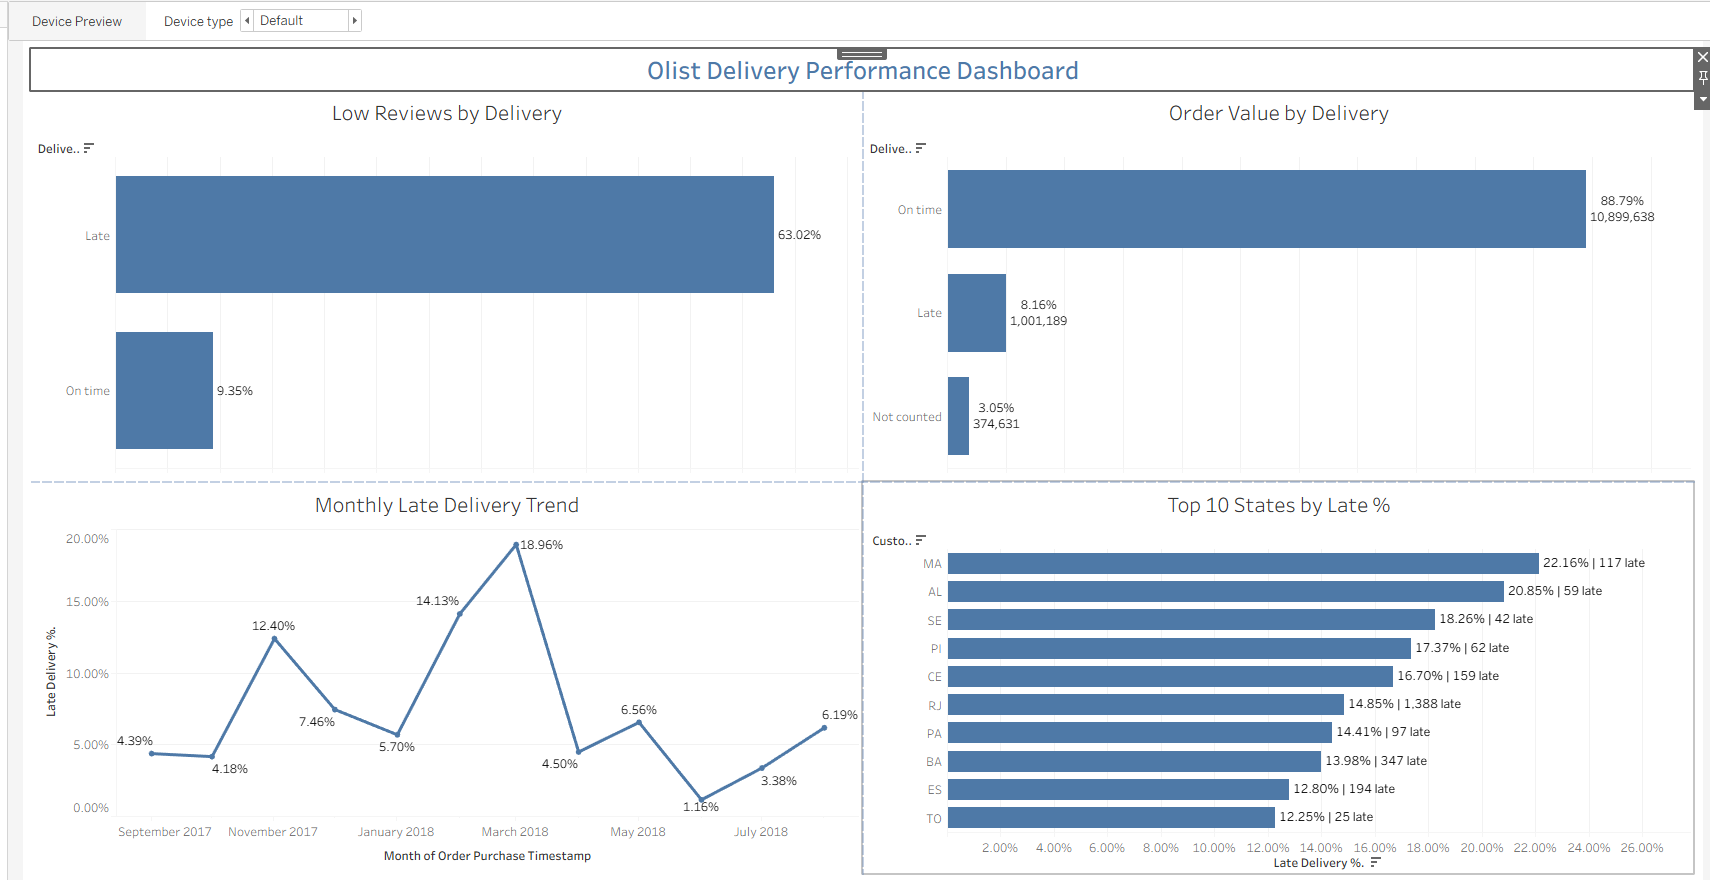

What the dashboard file says about the page in this screenshot:
{"tool":"tableau","page":{"name":"Olist Delivery Performance Dashboard","canvas":[1000,1000],"units":"permille","ordinal":0},"visuals":[{"type":"title","box":[4.8,9.5,990.5,48.7]},{"type":"worksheet","title":"Low Reviews by Delivery","mark":"Automatic","rows":["delivery_result"],"cols":["low_review"],"box":[4.8,58.2,495.2,466.1]},{"type":"worksheet","title":"Order Value by Delivery","mark":"Automatic","rows":["delivery_result"],"cols":["payment_value"],"box":[500,58.2,495.2,466.1]},{"type":"worksheet","title":"Monthly Late Delivery Trend","mark":"Automatic","rows":["is_late"],"cols":["order_purchase_timestamp"],"box":[4.8,524.3,495.2,466.2]},{"type":"worksheet","title":"Top 10 States by Late %","mark":"Automatic","rows":["customer_state"],"cols":["is_late"],"box":[500,524.3,495.2,466.2]}]}

Visuals, with their boxes on the dashboard's canvas, which has no fixed pixel size, in thousandths of its width and height (x1, y1, x2, y2). These are canvas units, not pixel positions in the 1710x880 screenshot, which may show the page scaled, cropped or inside an application window:
title: (5,10,995,58)
"Low Reviews by Delivery" worksheet: (5,58,500,524)
"Order Value by Delivery" worksheet: (500,58,995,524)
"Monthly Late Delivery Trend" worksheet: (5,524,500,990)
"Top 10 States by Late %" worksheet: (500,524,995,990)
